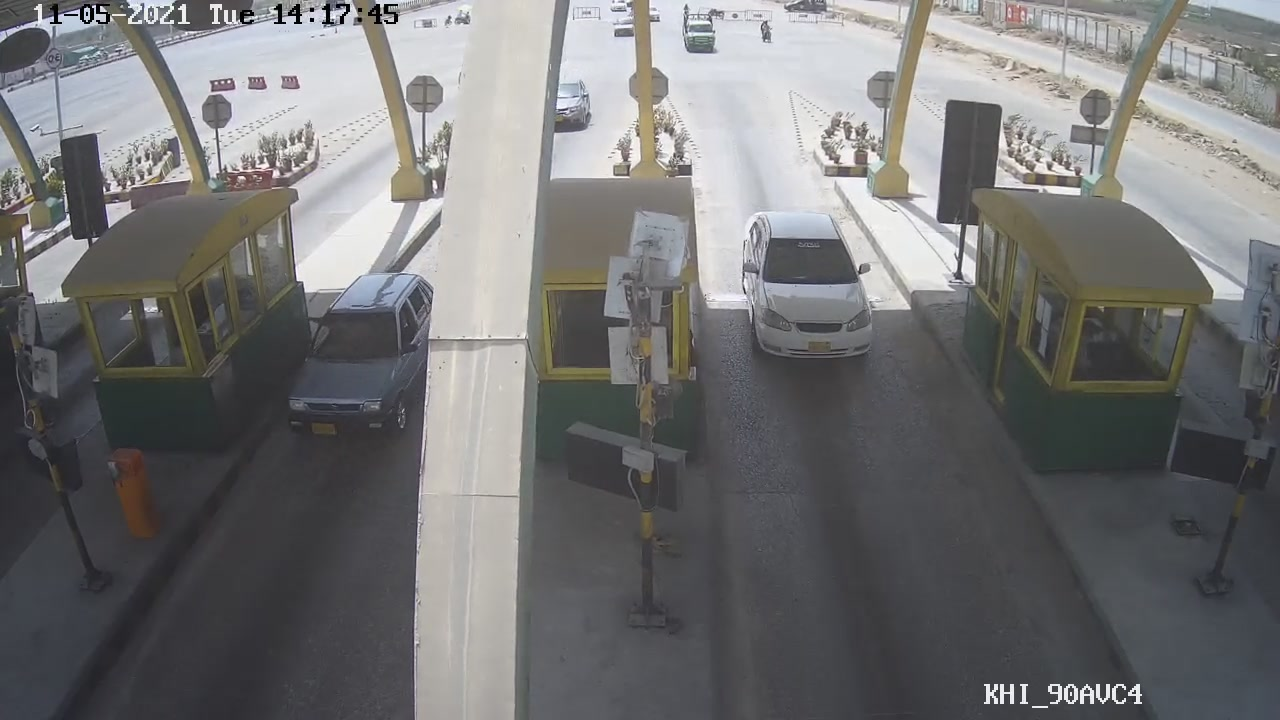F1: (730, 209, 881, 367)
